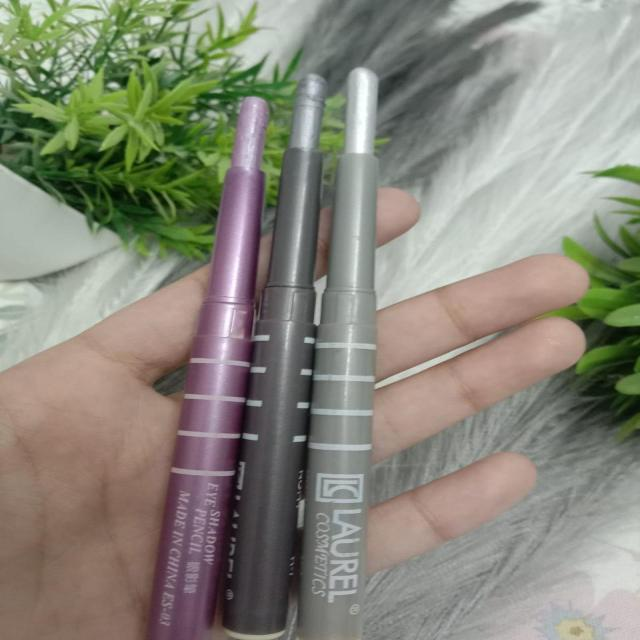eye liner: (143, 79, 285, 564), (220, 59, 338, 640), (300, 49, 394, 640)
